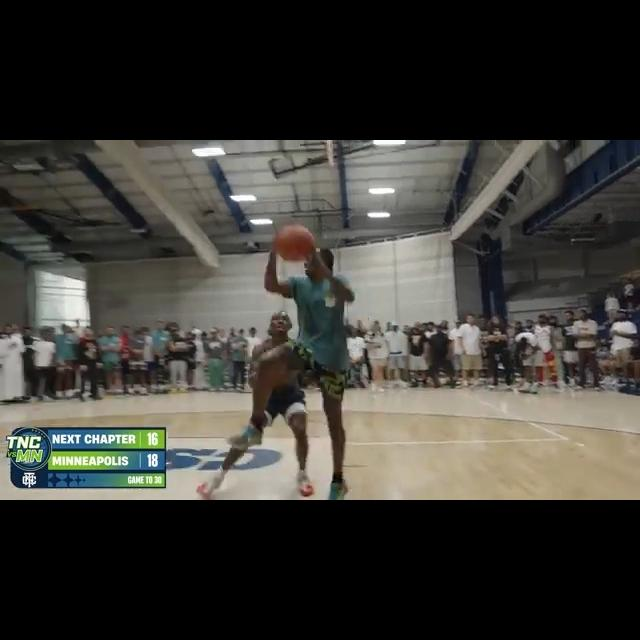basketball: (274, 221, 315, 261)
